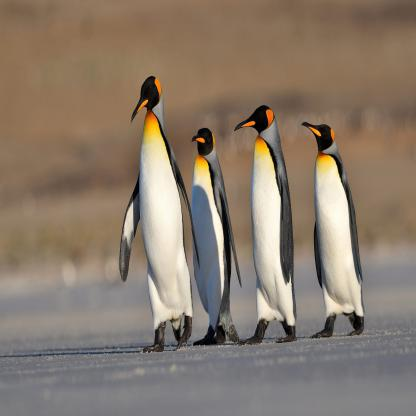Penguin: (105, 59, 199, 366), (292, 115, 378, 347), (233, 99, 306, 343), (182, 121, 249, 354)
